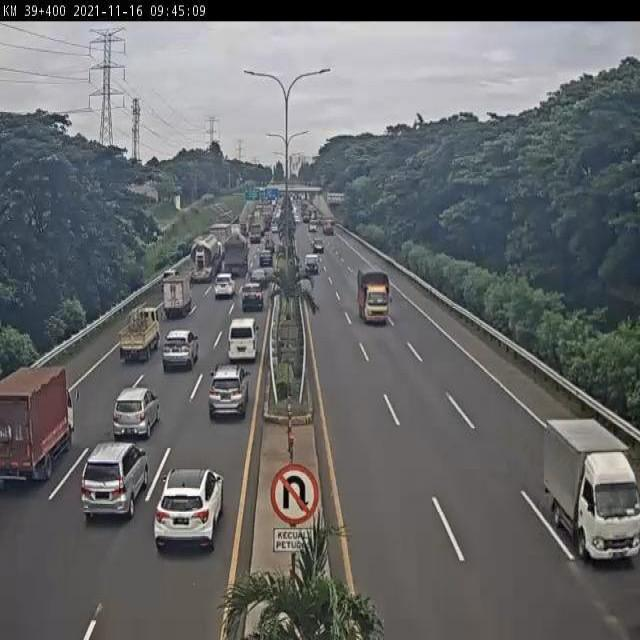car: (154, 471, 225, 549), (81, 442, 150, 518), (206, 363, 248, 420), (113, 388, 159, 437), (159, 329, 196, 375), (213, 274, 234, 302), (242, 286, 263, 314), (248, 264, 270, 288)
small bus: (227, 320, 257, 365)
small truck: (542, 419, 640, 561), (119, 312, 161, 363), (162, 276, 193, 319)
truck-l-: (221, 234, 248, 278)
truck-m-: (0, 368, 80, 485), (357, 267, 393, 325)
truck-xl-: (186, 236, 215, 284)
